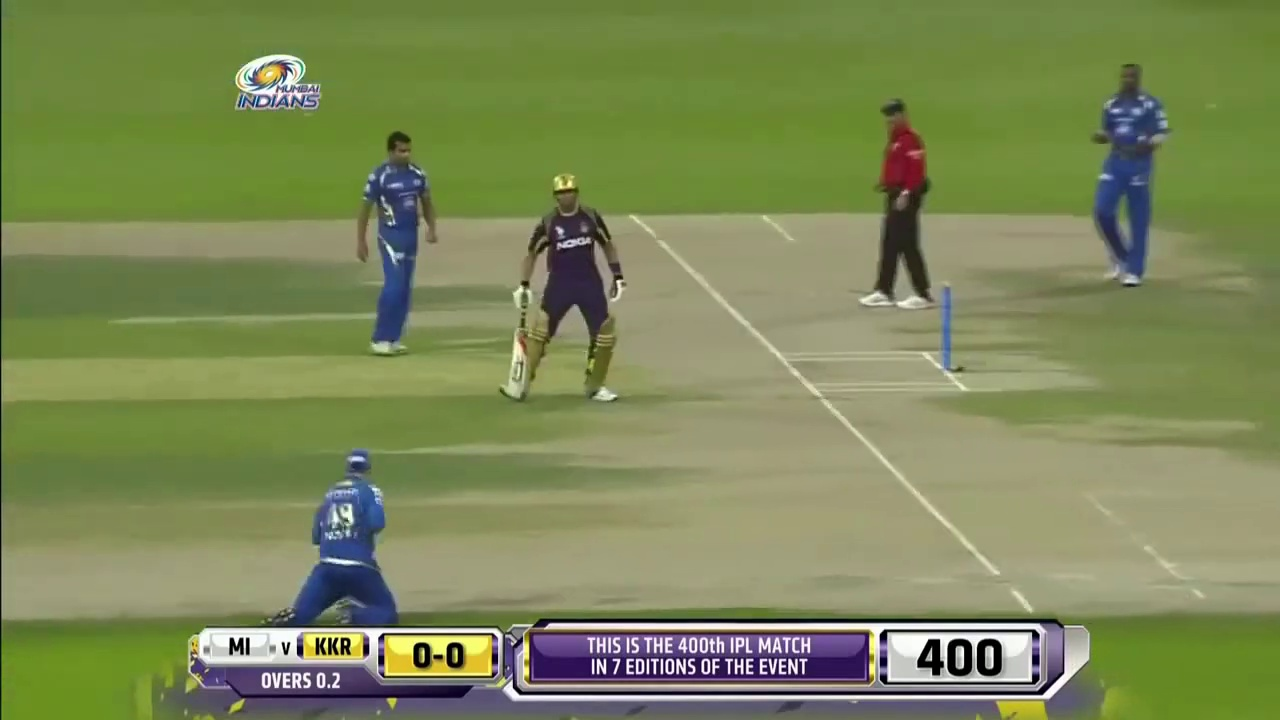bat: (509, 307, 528, 400)
